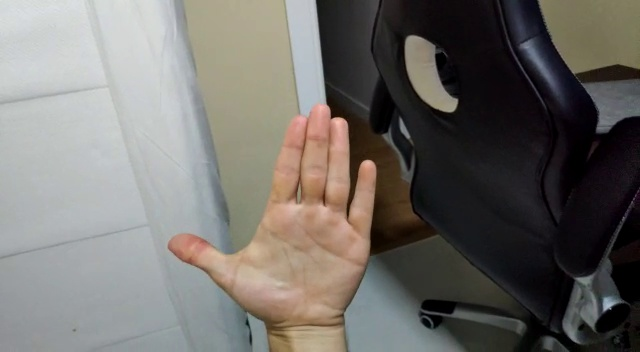Palm: (165, 101, 378, 337)
